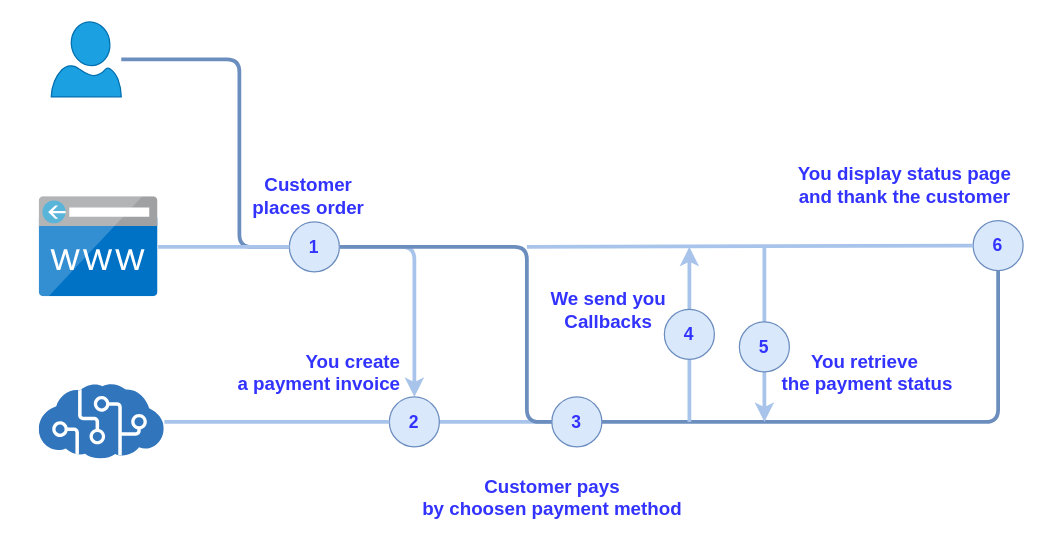
This 1045x544 diagram has some shape labels left out. The shapes that lost their labels are listed below. From the top down, each one's box as (x1, y1, x2, y2) in pixels, then its label:
(50, 21, 121, 97): Customer
(39, 196, 158, 296): Your website
(39, 384, 164, 459): Payment Gateway
